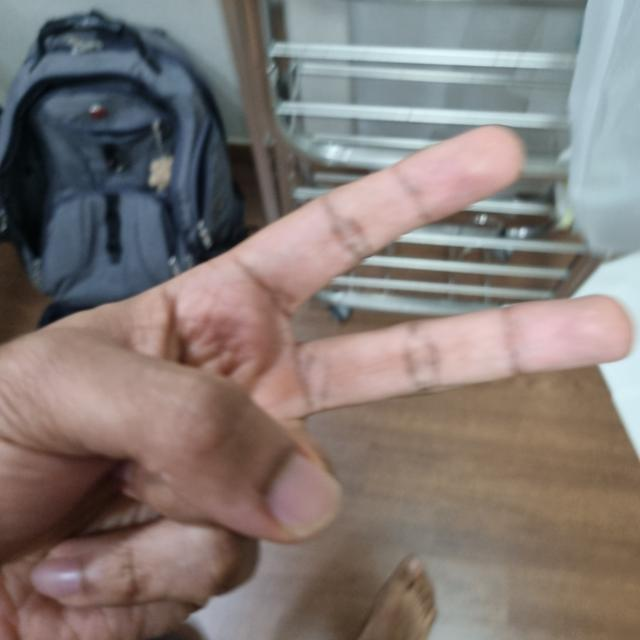Scissors: (0, 128, 633, 639)
